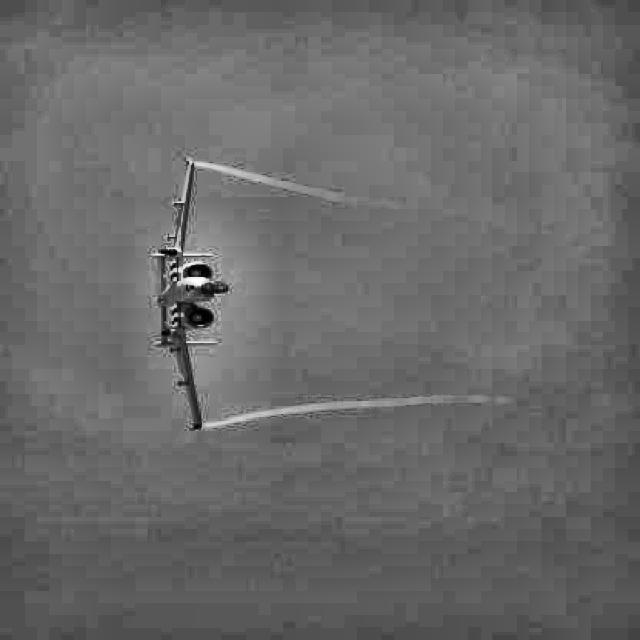A10: (151, 157, 229, 431)
